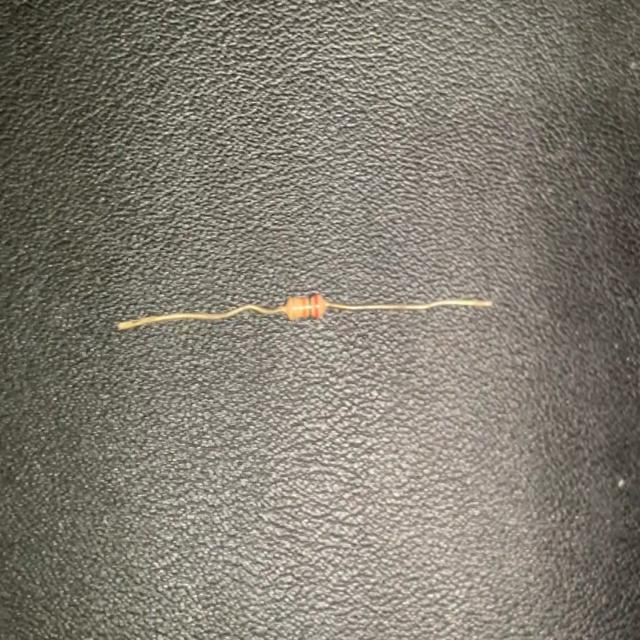resistor: (114, 286, 497, 336)
